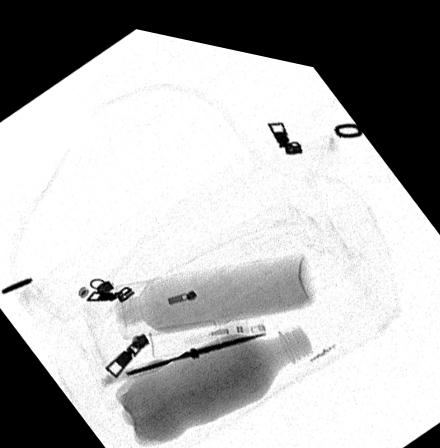Scissors: (118, 315, 269, 377)
